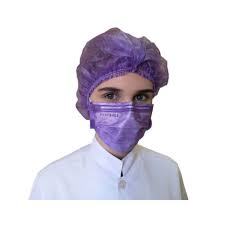with_mask_and_cap: (78, 31, 160, 157)
